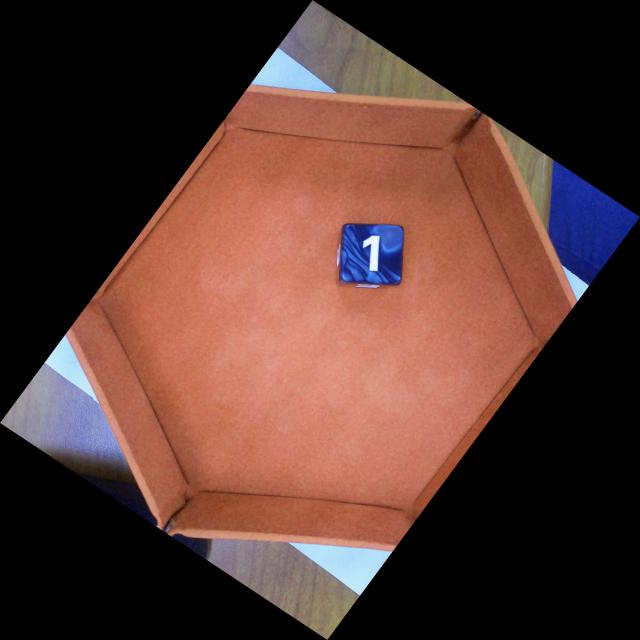dice: (343, 226, 402, 285)
